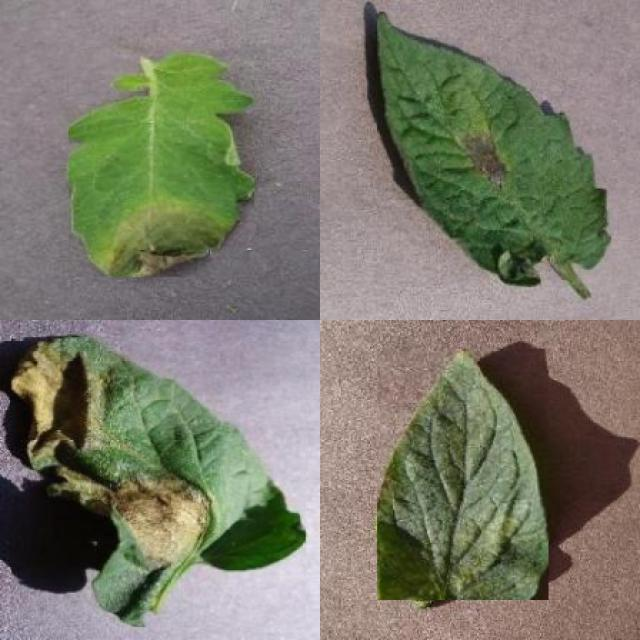Late Blight: (11, 333, 306, 627), (378, 12, 611, 287), (69, 49, 254, 277)
Spider Mites: (377, 349, 549, 601)
